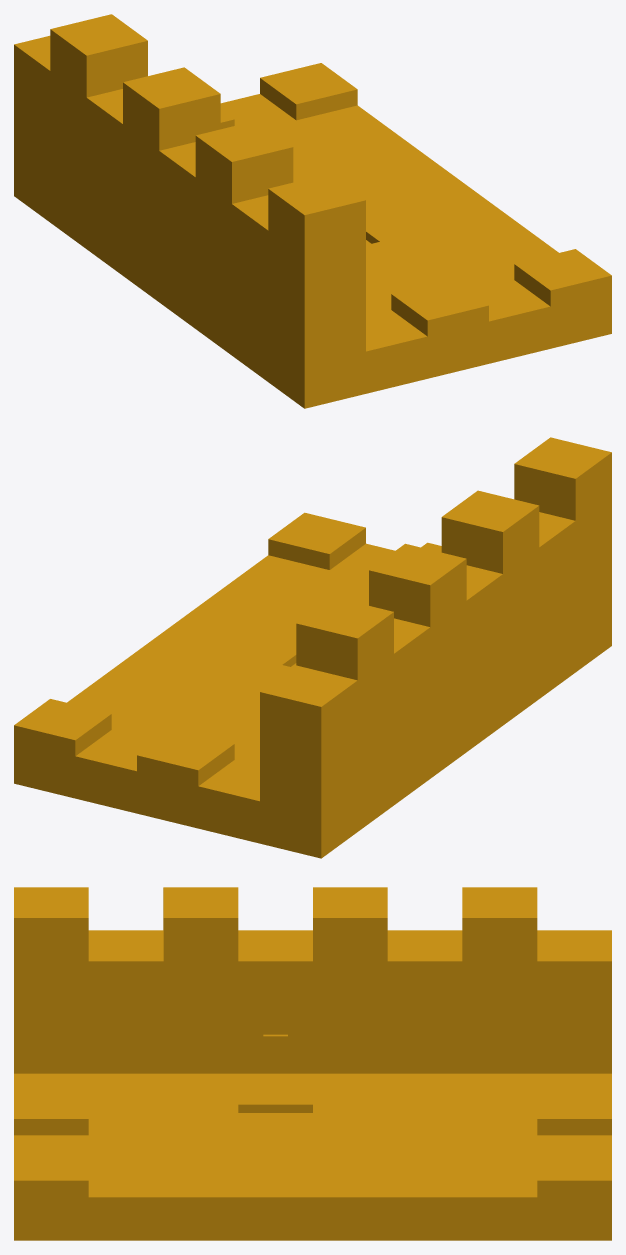
The model's file is castle.glb.
The picture shows the model from 3 angles, top to bottom: view 1: azimuth 30°, elevation 25°; view 2: azimuth 150°, elevation 25°; view 3: azimuth 270°, elevation 25°; orthographic projection. The views are drawn at different scales.
Visible parts, largest first — view 1: Cube; view 2: Cube; view 3: Cube.
Part boxes in pixels (x1=…): Cube: x1=14, y1=14, x2=611, y2=408; Cube: x1=14, y1=437, x2=611, y2=858; Cube: x1=14, y1=887, x2=611, y2=1240.
Bounding box in the file's own units: 6.91 × 4.16 × 11.32.
Materials: 1 (1 with a texture image).
